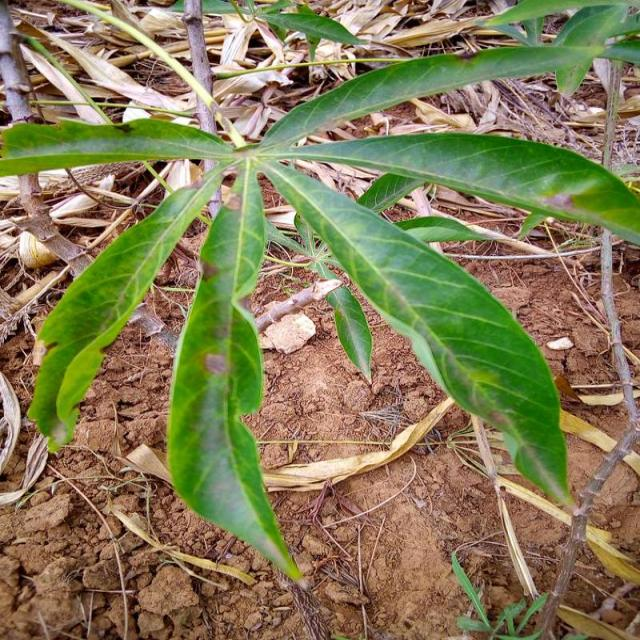cassava leaf: (1, 1, 638, 582), (258, 156, 573, 509), (166, 164, 304, 584), (26, 168, 220, 454)
